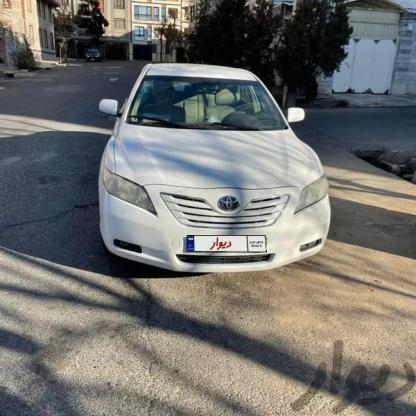Car: (95, 64, 338, 280)
